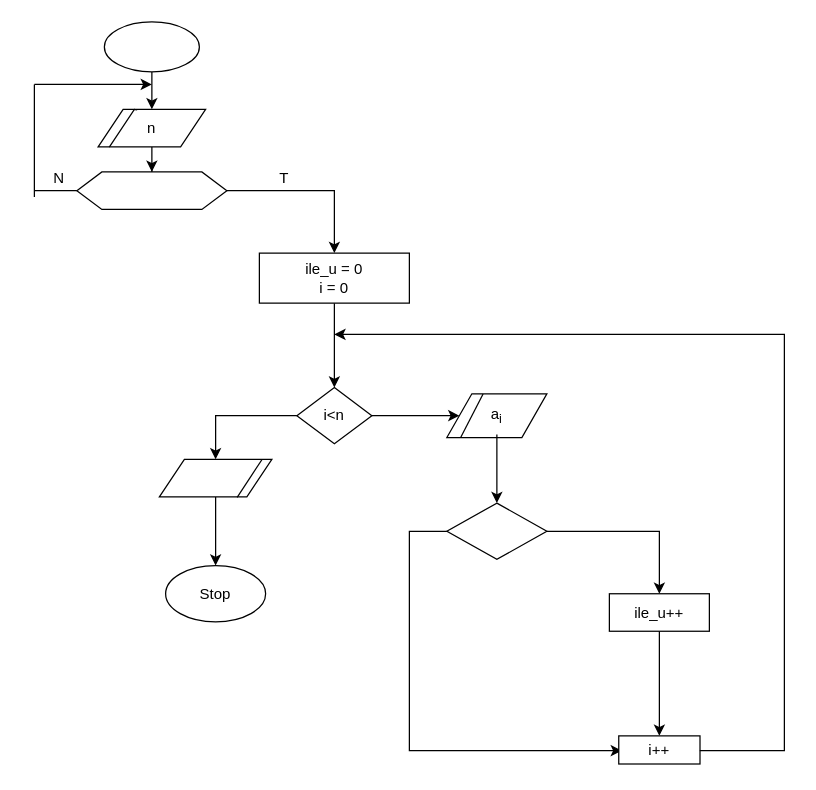
Image size: 816x790. Some labels were removed from this diagram. Here are the shapes that lost their labels. From the top down, the centre of each, then its label:
At point 151,46: "Start".
At point 151,190: "n>0".
At point 215,477: "ile_u".
At point 496,530: "a<0".
